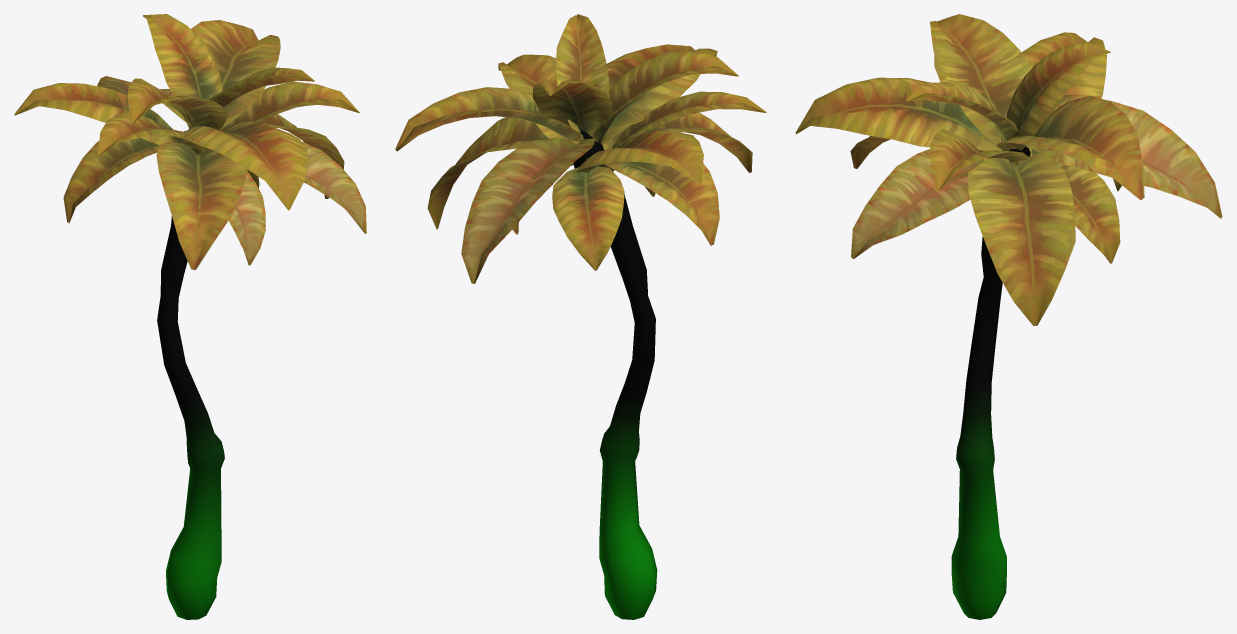
File: P_DesertPalmTree02.obj
3 views of the same model, side by side, from view 1: azimuth 30°, elevation 25°; view 2: azimuth 150°, elevation 25°; view 3: azimuth 270°, elevation 25° (orthographic). The views are drawn at different scales.
Bounding box in the file's own units: 6.14 × 11.18 × 7.53.
